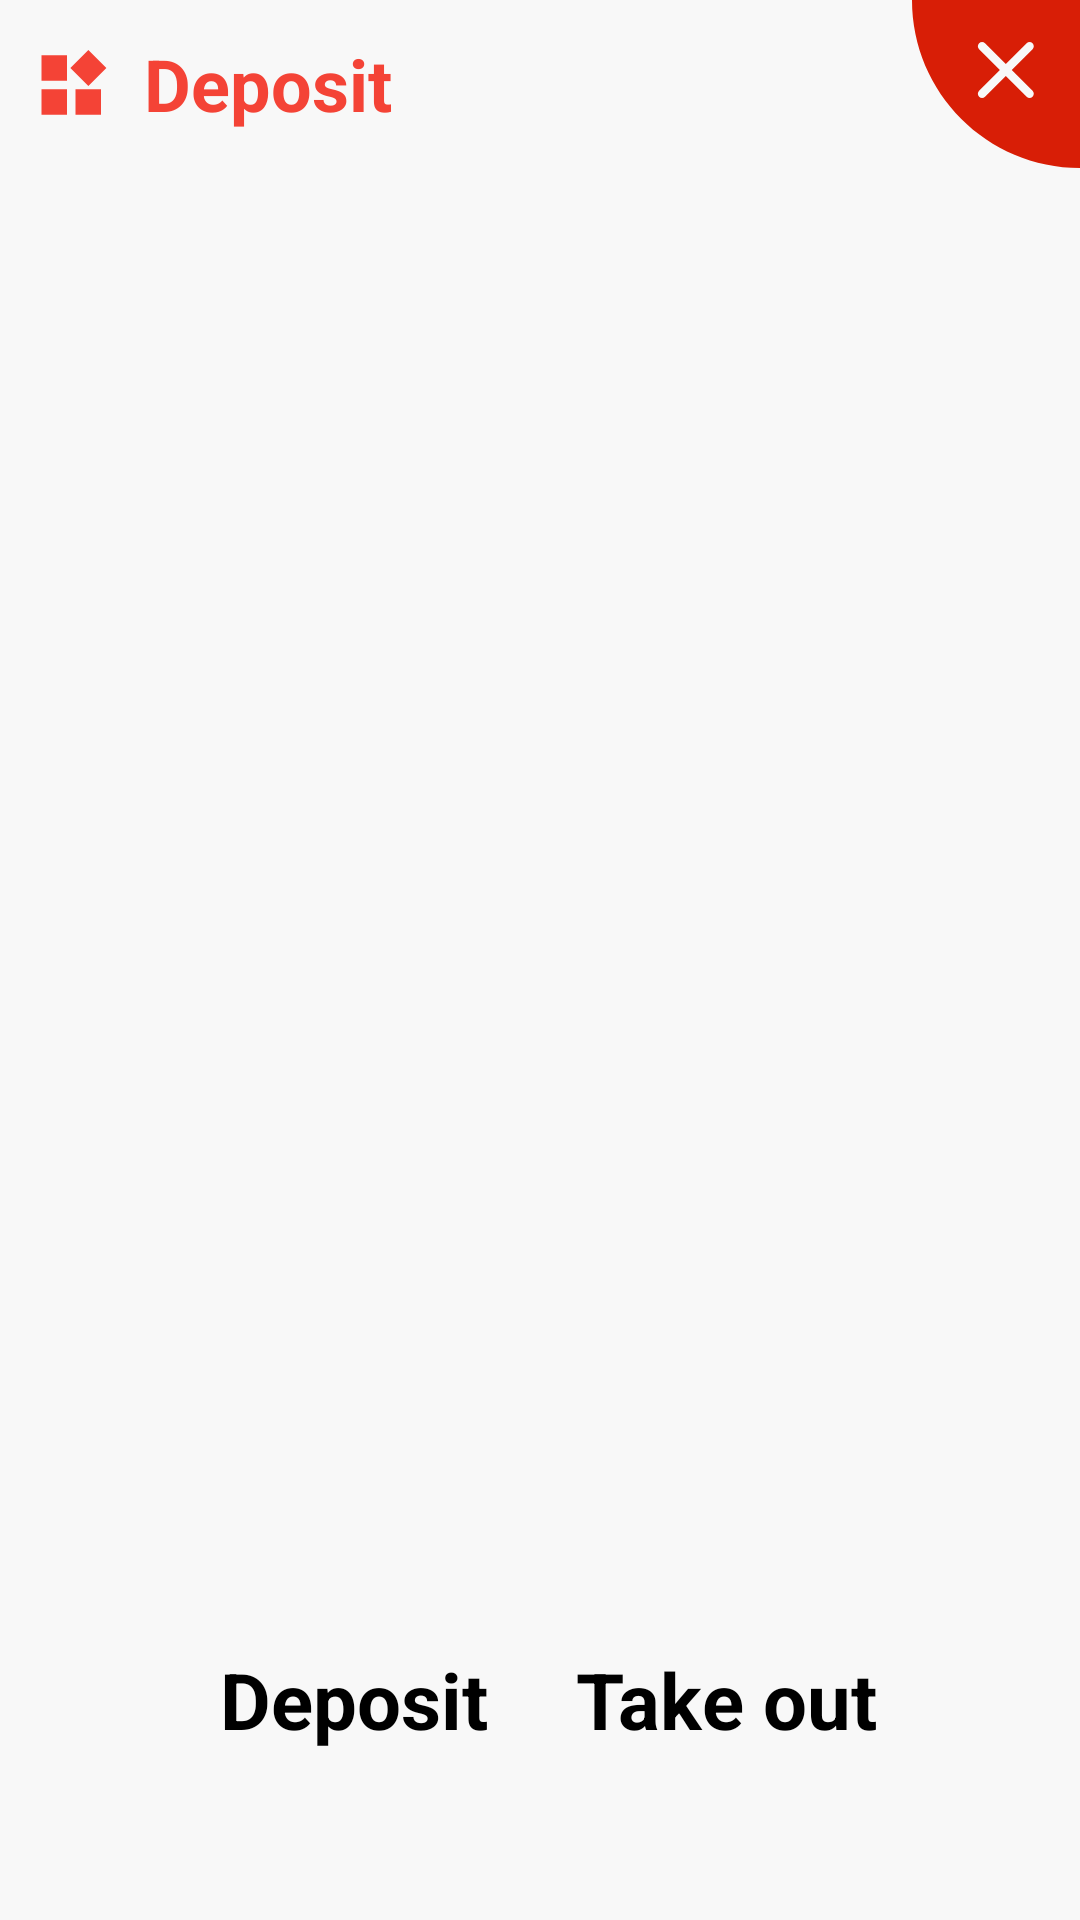

Named icons in this screenshot (1080px×1920px) and their bounding boxes, bbox(x1, y1, x2, y2):
close: bbox(912, 0, 1080, 168)
